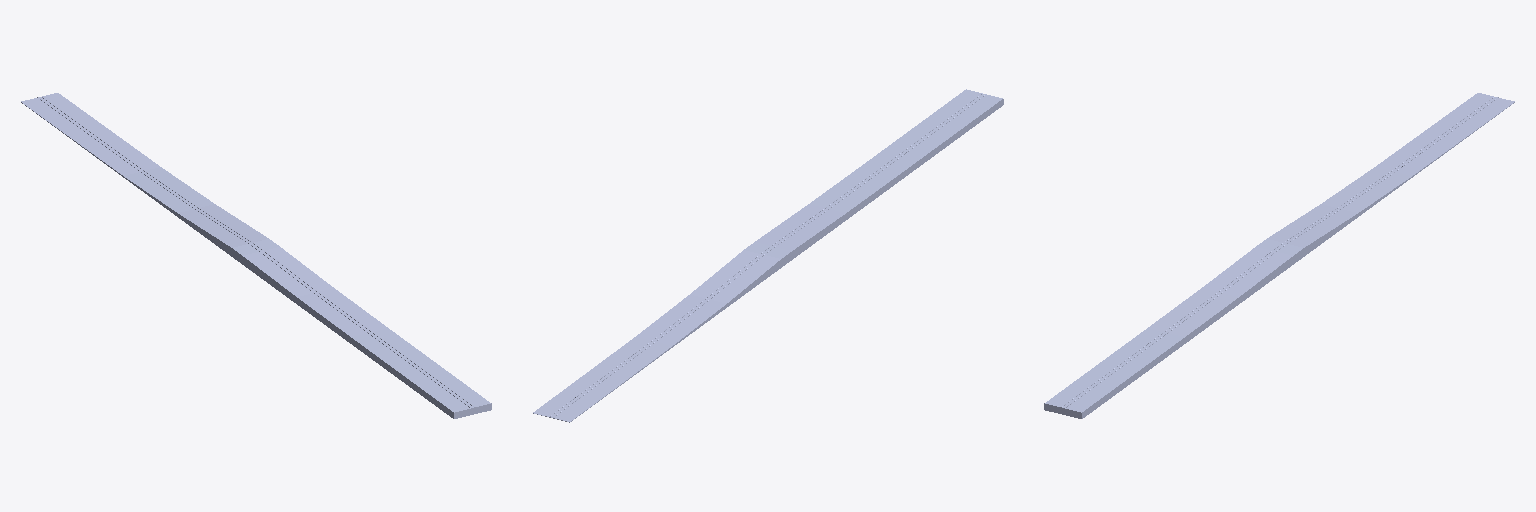
robot.urdf — hump:
<?xml version="1.0" encoding="utf-8"?>
<!-- This URDF was automatically created by SolidWorks to URDF Exporter! Originally created by Stephen Brawner (brawner@gmail.com) 
     Commit Version: 1.6.0-4-g7f85cfe  Build Version: 1.6.7995.38578
     For more information, please see http://wiki.ros.org/sw_urdf_exporter -->
<robot
  name="hump">
  <link
    name="base_link">
    <inertial>
      <origin
        xyz="-9.78611731893812E-10 -52.8471187304909 1.69585969055801"
        rpy="0 0 0" />
      <mass
        value="20650615.5328058" />
      <inertia
        ixx="158318352419.087"
        ixy="1.58175258106365"
        ixz="0.0186666410290973"
        iyy="713486883.868618"
        iyz="398553067.855802"
        izz="158980407399.775" />
    </inertial>
    <visual>
      <origin
        xyz="0 0 0"
        rpy="0 0 0" />
      <geometry>
        <mesh
          filename="package://hump/meshes/base_link.STL" />
      </geometry>
      <material
        name="">
        <color
          rgba="0.792156862745098 0.819607843137255 0.933333333333333 1" />
      </material>
    </visual>
    <!-- <collision>
      <origin
        xyz="0 0 0"
        rpy="0 0 0" />
      <geometry>
        <mesh
          filename="package://hump/meshes/base_link.STL" />
      </geometry>
    </collision> -->
  </link>
</robot>

--- Render facts (derived) ---
Views: 3 orthographic renders of the robot side by side, from view 1: azimuth 30°, elevation 25°; view 2: azimuth 150°, elevation 25°; view 3: azimuth 330°, elevation 25°.
Robot: hump — 1 links, 0 joints (none); root link base_link; default pose: all joints at 0.
Visible links, largest first — view 1: base_link; view 2: base_link; view 3: base_link.
Link boxes in pixels (x1=…): base_link: x1=21, y1=93, x2=491, y2=418; base_link: x1=533, y1=89, x2=1003, y2=422; base_link: x1=1044, y1=93, x2=1514, y2=418.
Size in the robot's own frame: 20 by 400 by 4.72 metres.
Meshes: 1 distinct files referenced, 1 mesh visuals loaded (1 binary STL).
